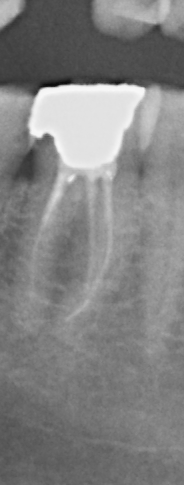fracture: (59, 299, 91, 327)
